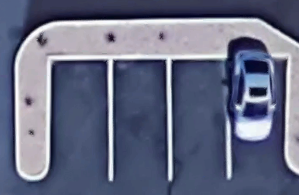Occupied: (229, 58, 288, 180)
Vacant: (50, 58, 111, 180), (110, 58, 170, 180), (170, 58, 229, 180)
